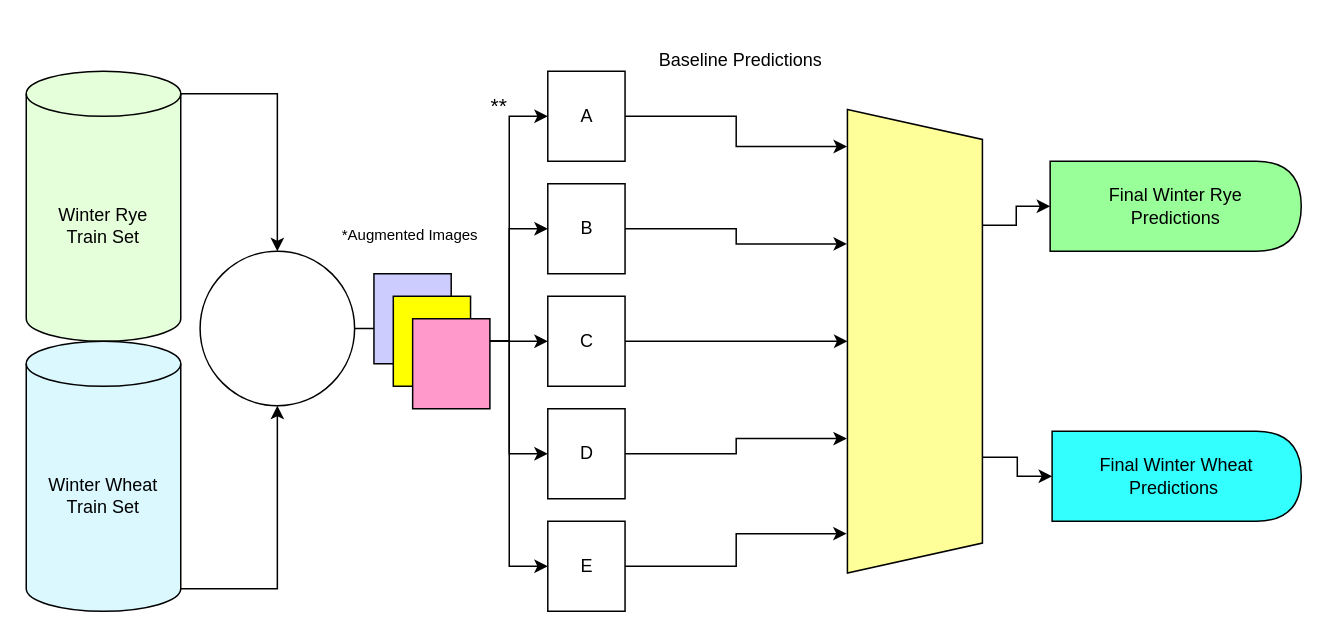
Image size: 1328x638. Some labels were removed from this diagram. The shapes that lost their labels are listed below. From the top down, each one's centre as x and y in pixels, then its label:
[277,328]: Augmenter
[914,340]: Ensemble Learning Module
